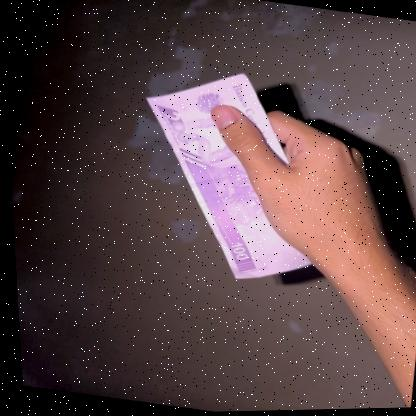one_hundred-back-vef: (114, 56, 337, 294)
